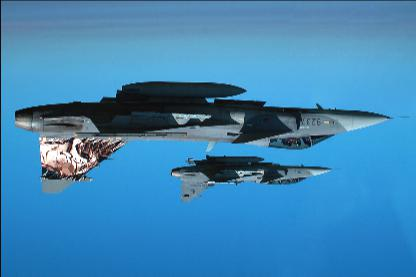JAS39: (14, 82, 410, 193), (171, 154, 341, 201)
